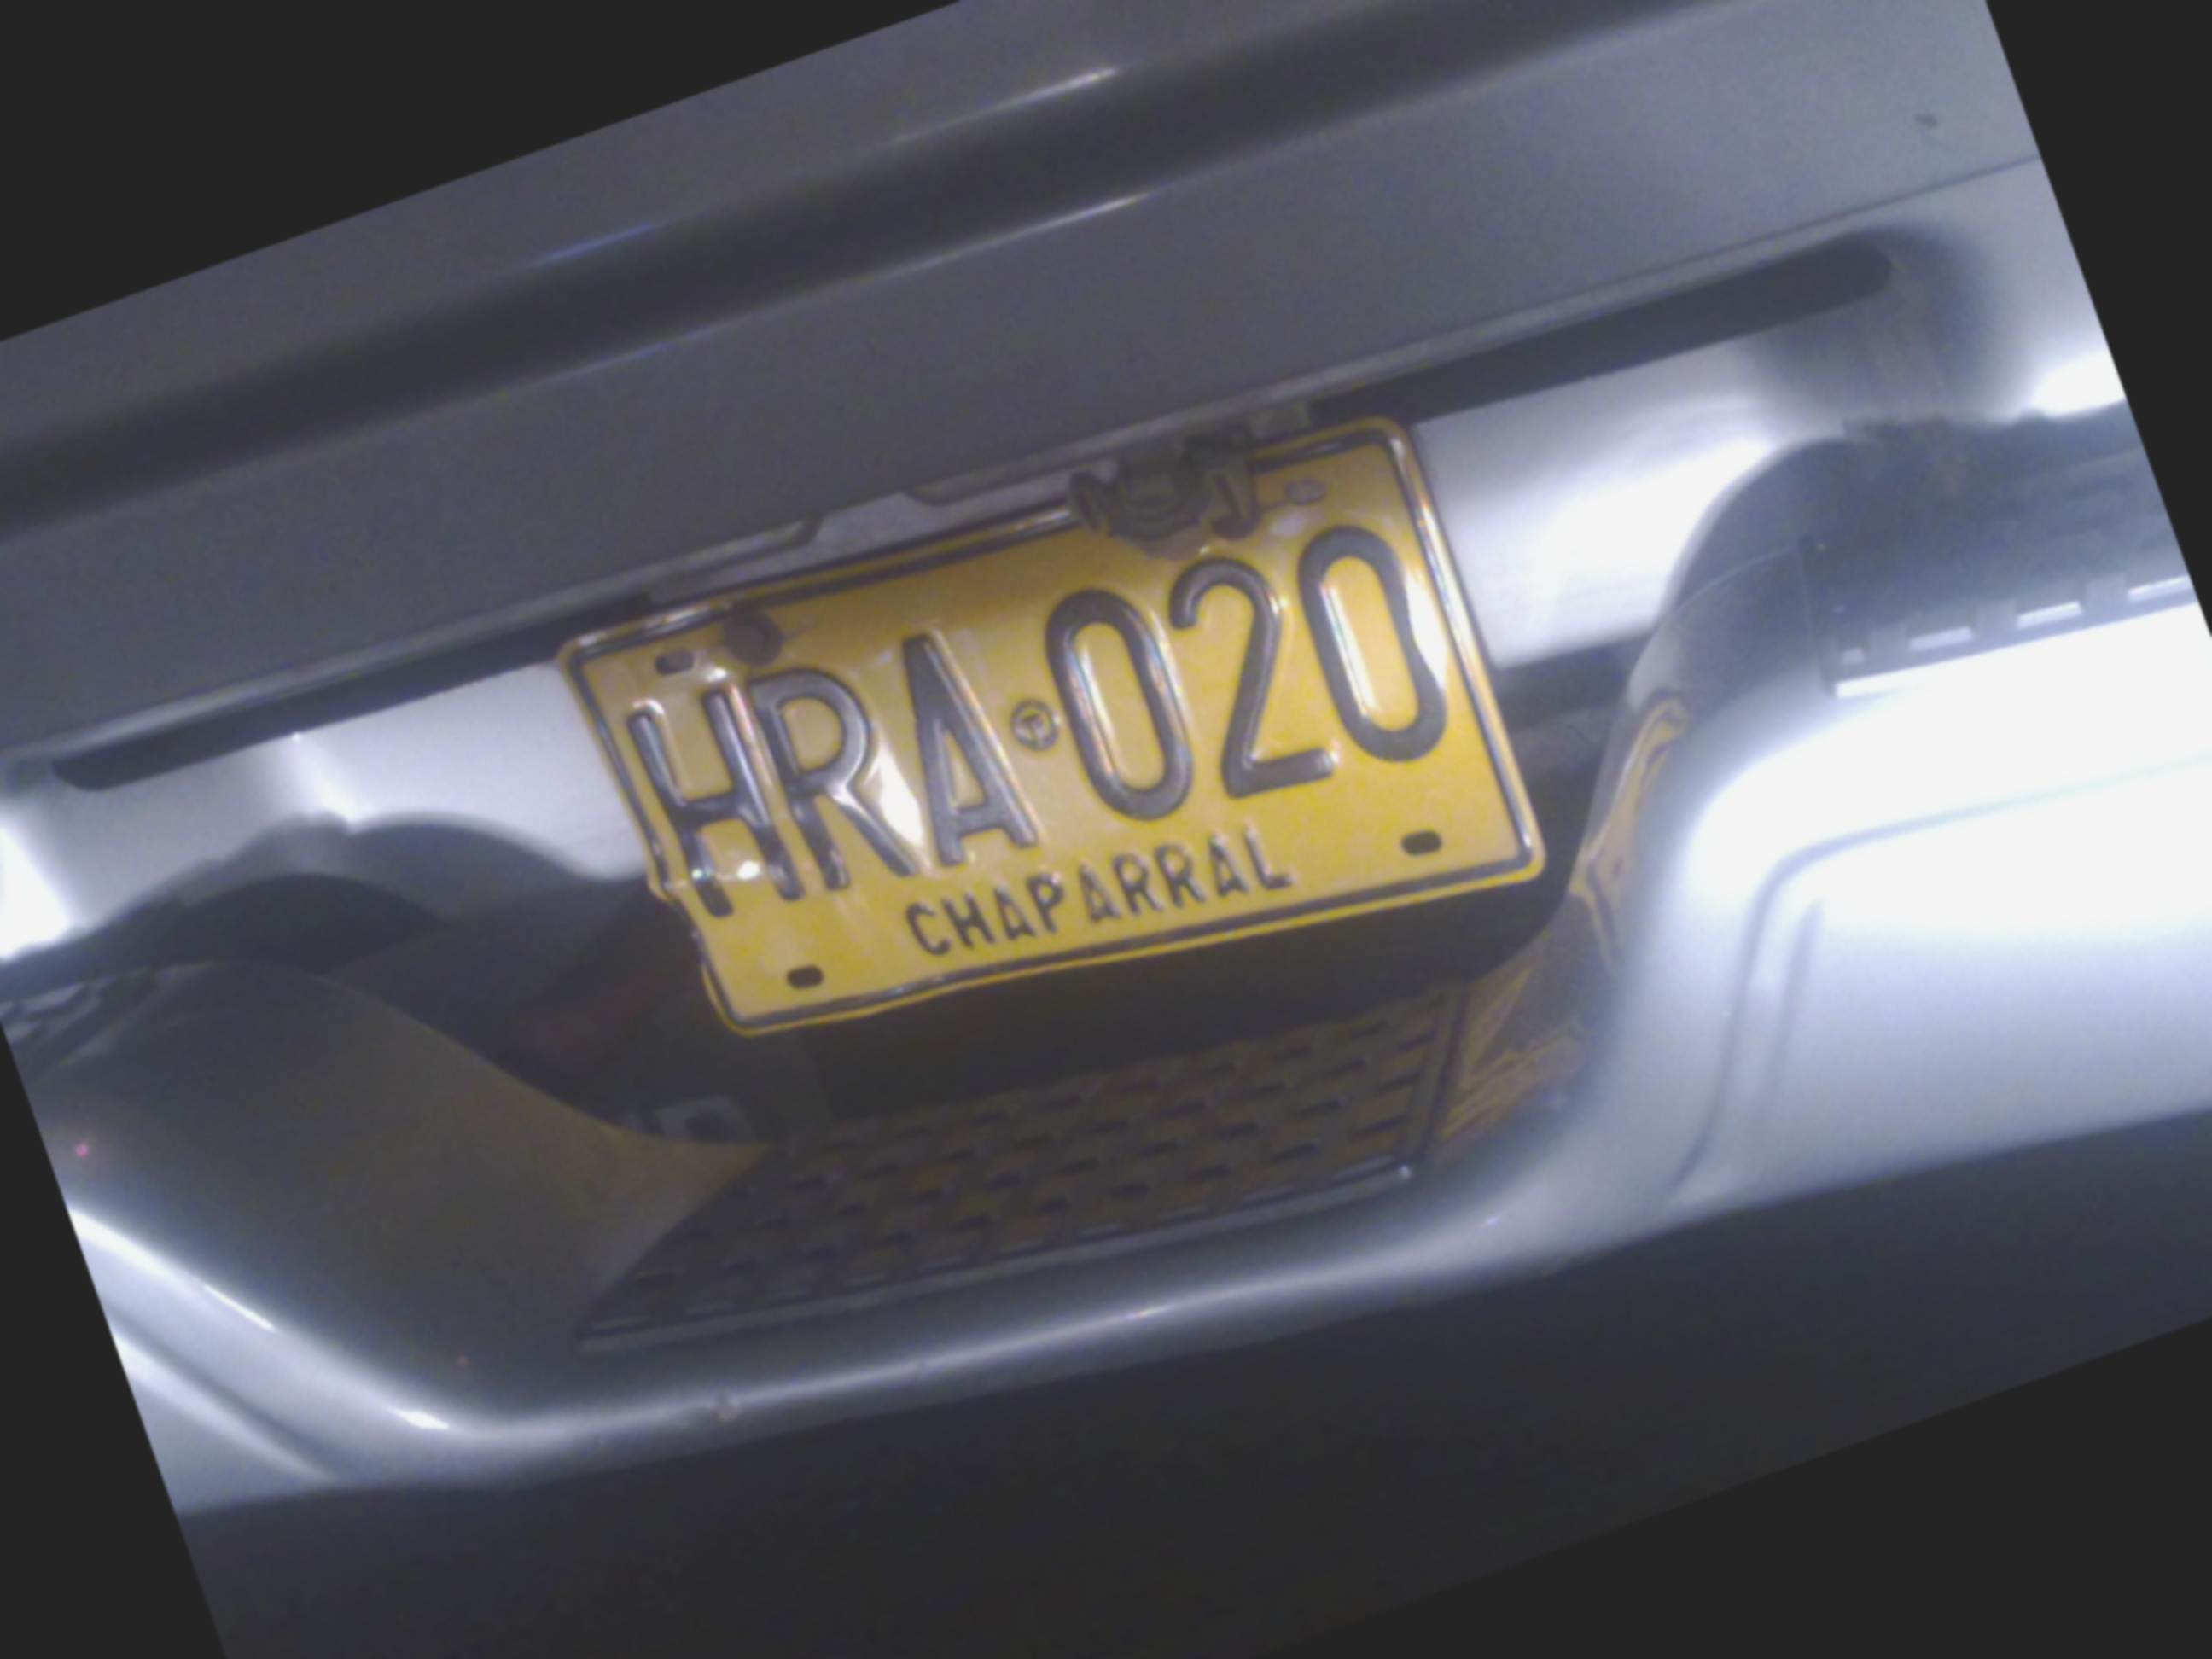placas: (539, 343, 1573, 1176)
